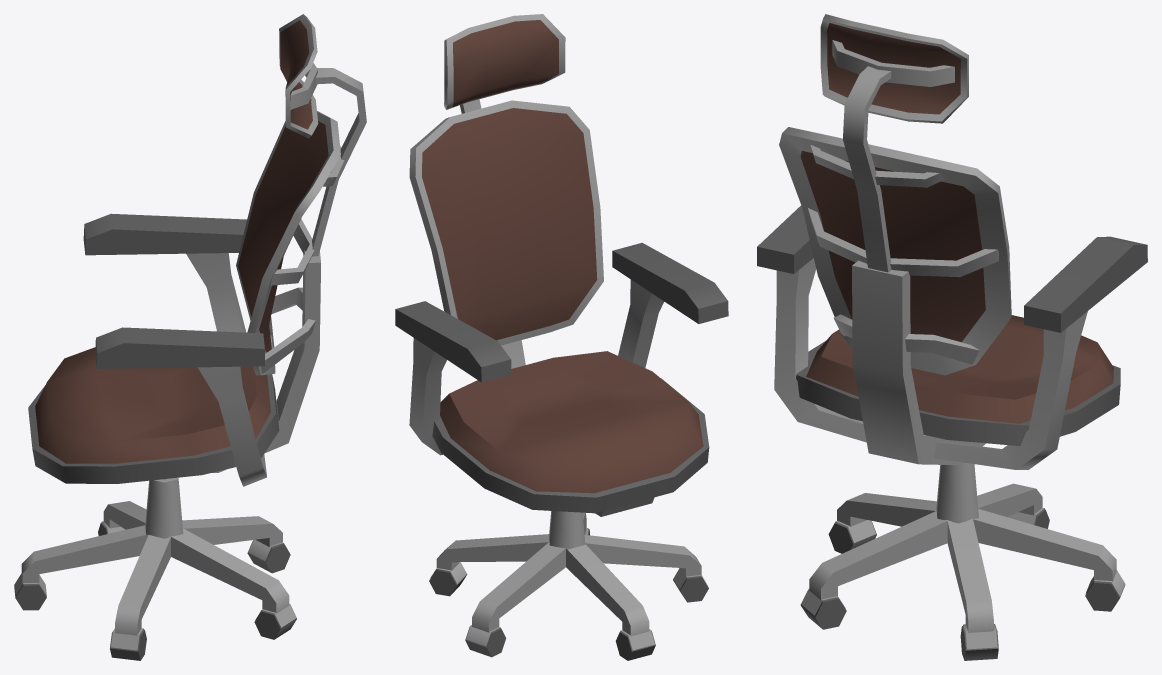
File: office_chair.glb
The picture shows the model from 3 angles, left to right: view 1: azimuth 30°, elevation 25°; view 2: azimuth 150°, elevation 25°; view 3: azimuth 270°, elevation 25°; orthographic projection. The views are drawn at different scales.
Visible parts, largest first — view 1: office_chair; view 2: office_chair; view 3: office_chair.
Part boxes in pixels (bbox=[...]): office_chair: bbox=[14, 14, 366, 660]; office_chair: bbox=[395, 14, 728, 660]; office_chair: bbox=[757, 14, 1147, 660].
Bounding box in the file's own units: 0.6825 × 1.29 × 0.7257.
Materials: 1 (1 with a texture image).
